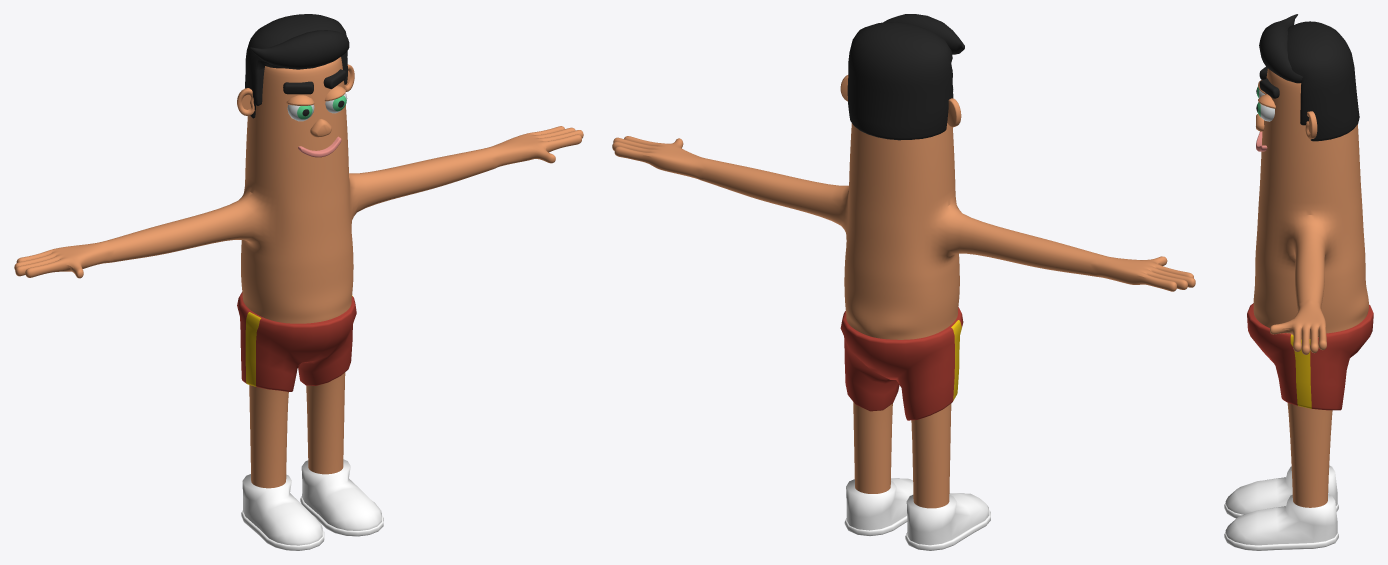
The model's file is shortKarakter.fbx.
The picture shows the model from 3 angles, left to right: view 1: azimuth 30°, elevation 25°; view 2: azimuth 150°, elevation 25°; view 3: azimuth 270°, elevation 25°; orthographic projection. The views are drawn at different scales.
Parts seen in each view (by area): view 1: govde, ayakkabi, short, hair, Atleth-Face-1, kulakBurun; view 2: govde, hair, short, ayakkabi; view 3: govde, hair, ayakkabi, short, Atleth-Face-1, kulakBurun.
Boxes of the visible parts, left/top/right/bottom form: govde: left=14, top=57, right=583, bottom=488; ayakkabi: left=241, top=459, right=383, bottom=550; short: left=237, top=292, right=356, bottom=391; hair: left=245, top=14, right=349, bottom=118; Atleth-Face-1: left=283, top=69, right=347, bottom=157; kulakBurun: left=237, top=64, right=354, bottom=137; govde: left=612, top=123, right=1195, bottom=508; hair: left=847, top=14, right=964, bottom=140; short: left=840, top=307, right=963, bottom=420; ayakkabi: left=844, top=478, right=990, bottom=550; govde: left=1253, top=68, right=1368, bottom=507; hair: left=1259, top=14, right=1359, bottom=141; ayakkabi: left=1224, top=465, right=1338, bottom=550; short: left=1247, top=303, right=1373, bottom=410; Atleth-Face-1: left=1256, top=67, right=1279, bottom=151; kulakBurun: left=1256, top=111, right=1317, bottom=139.
Bounding box in the file's own units: 251 × 208 × 57.11.
